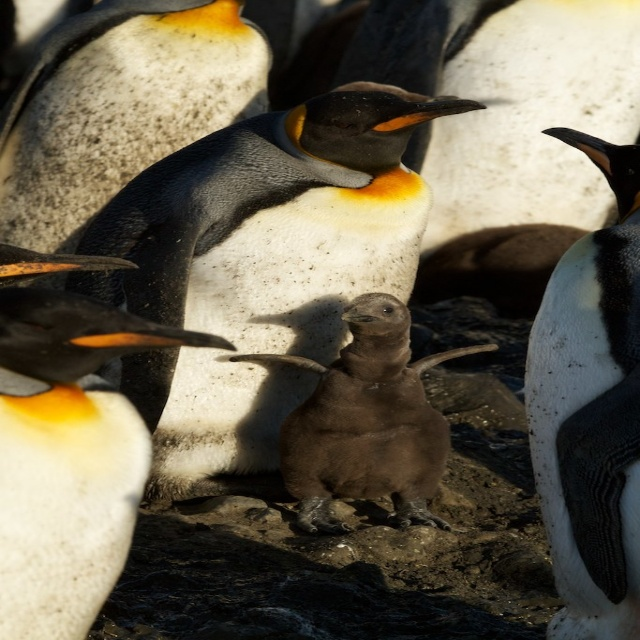Penguin: (24, 79, 501, 519), (407, 0, 639, 296), (0, 0, 269, 252), (226, 294, 499, 526), (543, 136, 639, 627)
